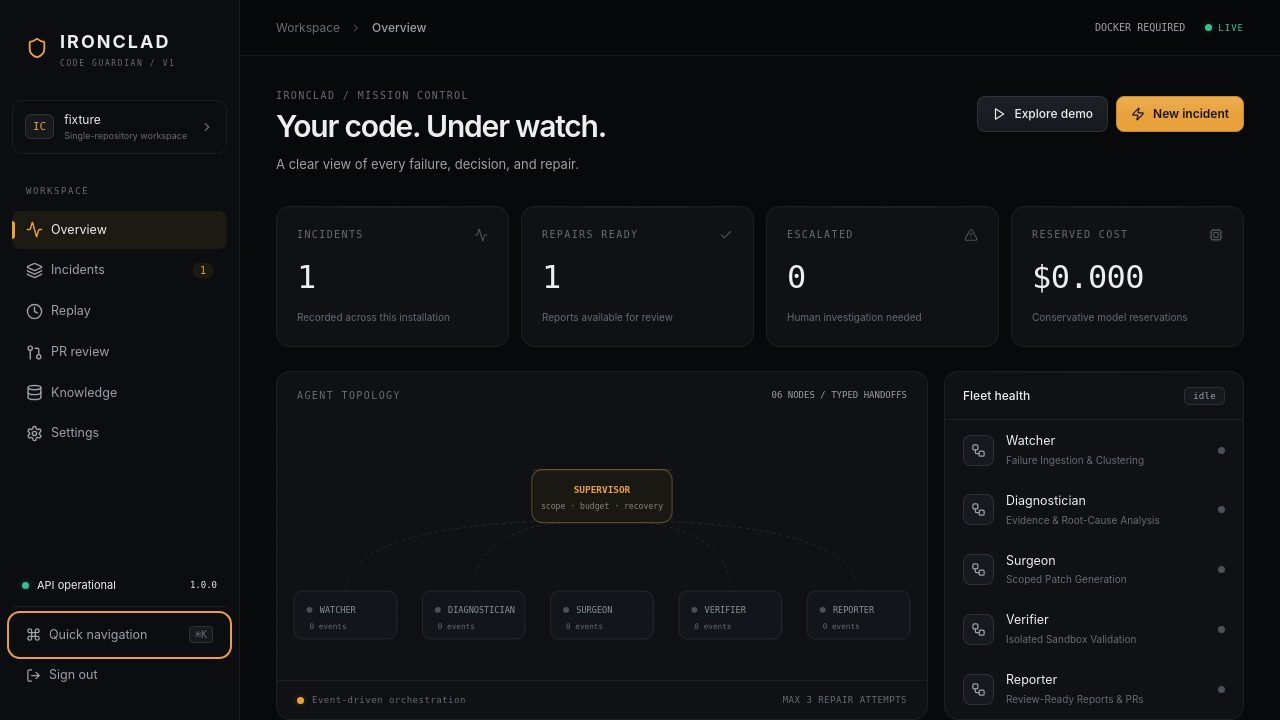
Test: command palette supports Escape and restores focus
The width and height of the screenshot is (1280, 720).
Check: the heading "Your code. Under watch." is shown, box x1=276 y1=110 x2=606 y2=144
Click the button "Quick navigation ⌘K": [120, 635] box x1=12 y1=616 x2=227 y2=654
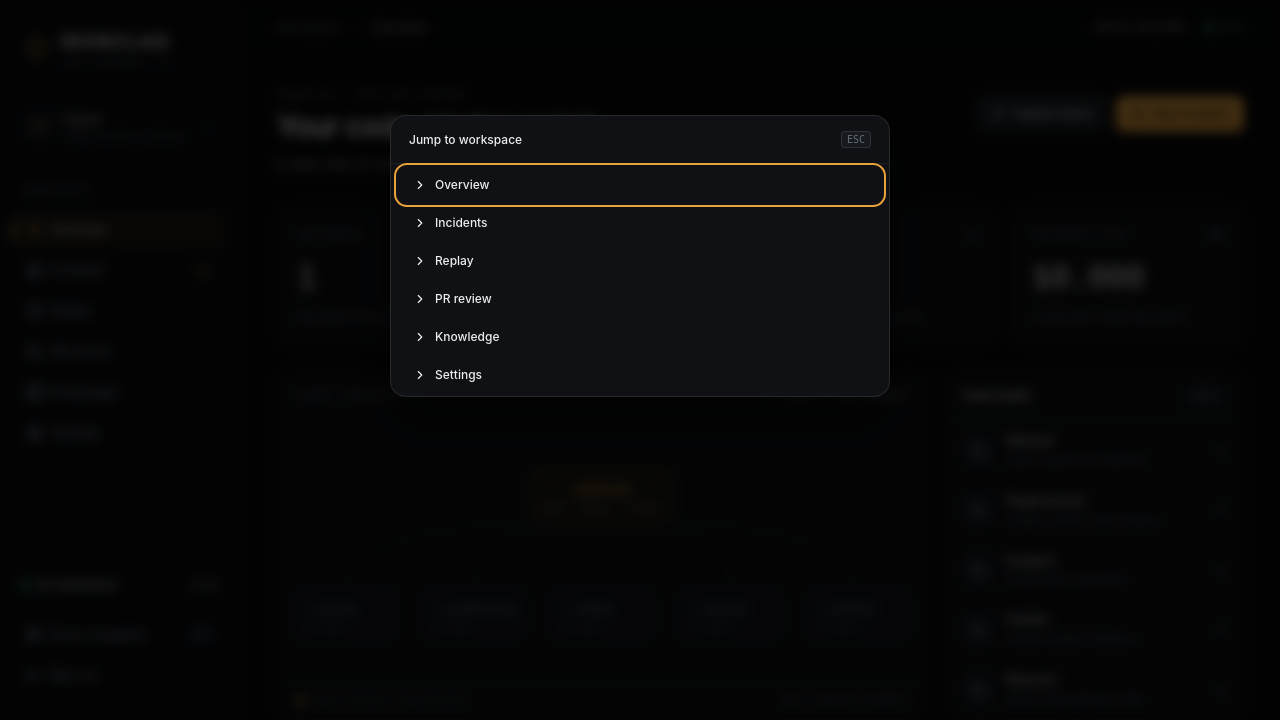
Press Escape
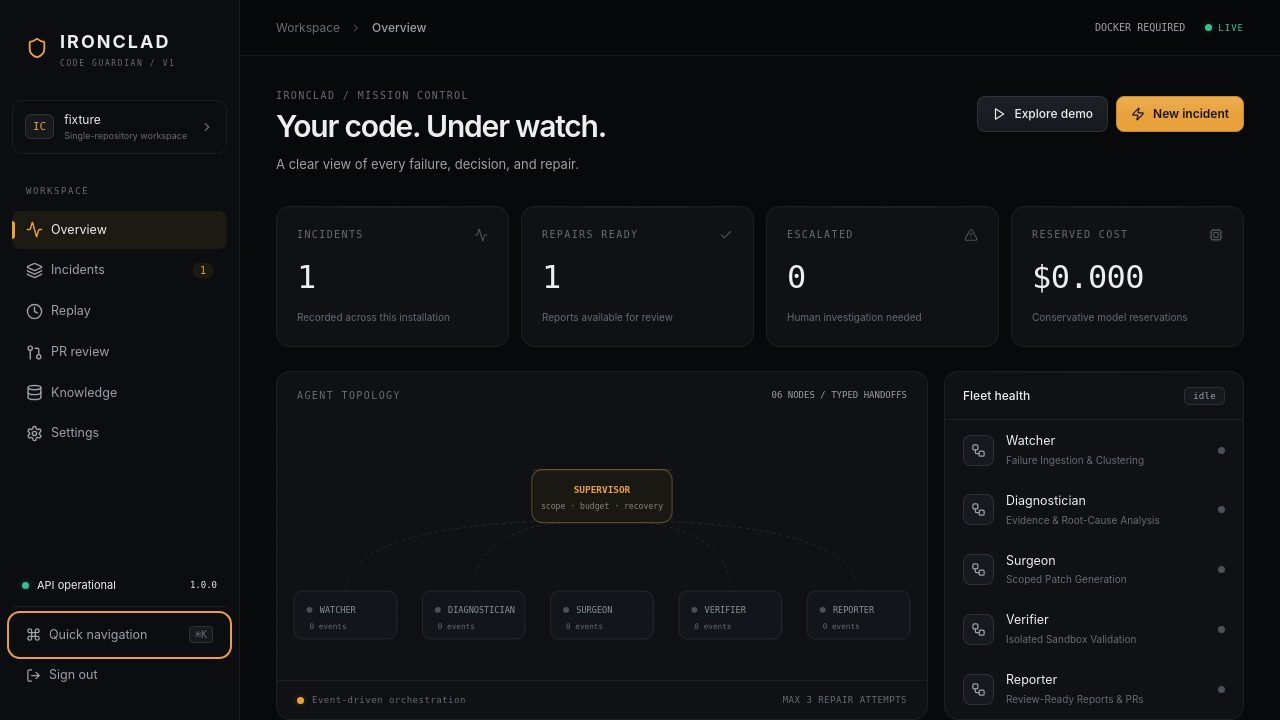
Check: the dialog is gone
